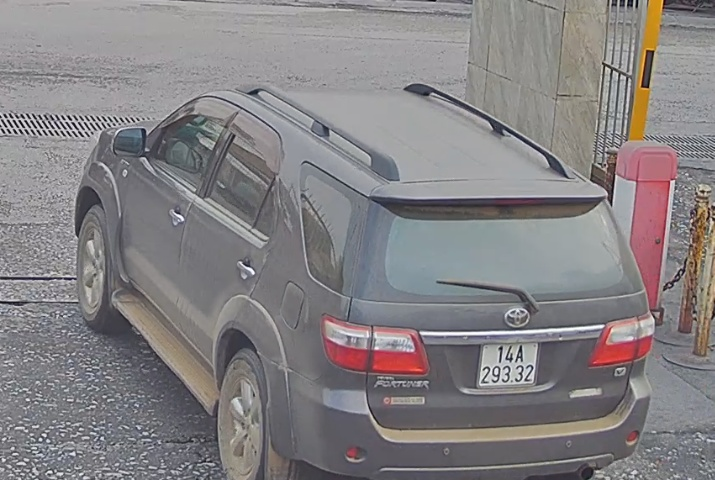vehicle plate: (476, 331, 544, 392)
